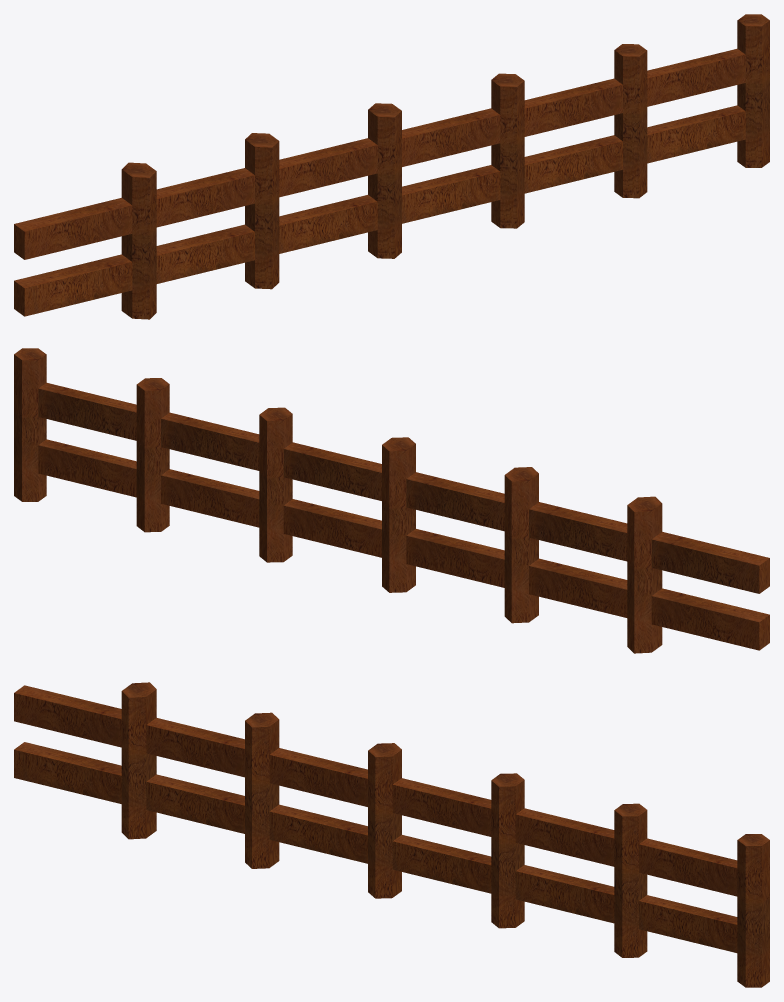
Rendered from AnotherRailings.fbx.
3 views of the same model, one above another, from view 1: azimuth 30°, elevation 25°; view 2: azimuth 150°, elevation 25°; view 3: azimuth 330°, elevation 25° (orthographic).
Parts seen in each view (by area): view 1: Cylinder.002; view 2: Cylinder.002; view 3: Cylinder.002.
Boxes of the visible parts, <box> form: Cylinder.002: <box>14,14,769,319</box>; Cylinder.002: <box>14,348,769,653</box>; Cylinder.002: <box>14,682,769,987</box>.
Size of the model in its own units: 771 by 140 by 37.71.
